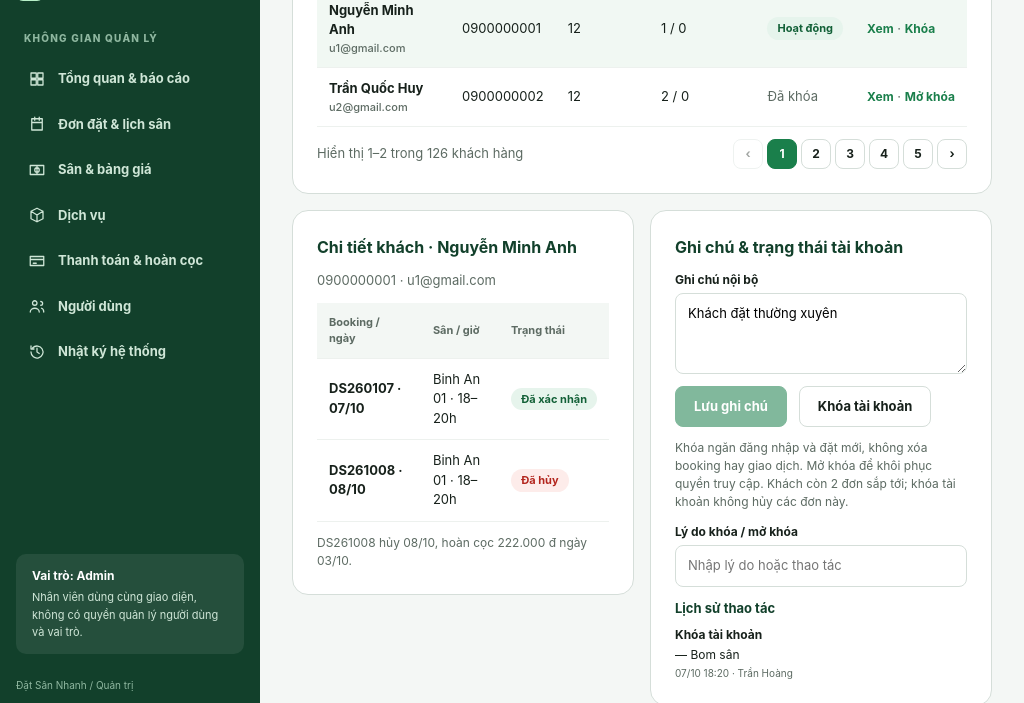
Scenario: Người dùng - tab Khách hàng › lưu ghi chú: nút chỉ bật khi nội dung thay đổi
(page scrolled)
Expected: the heading "Chi tiết khách · Nguyễn Minh Anh" is shown, [317,235,609,259]
Expected: the button "Lưu ghi chú" is disabled, [675,386,787,427]
Type " - ưu tiên sân 1" into the text box labelled "Ghi chú nội bộ" at coordinates (821, 333), box [675,293,967,374]
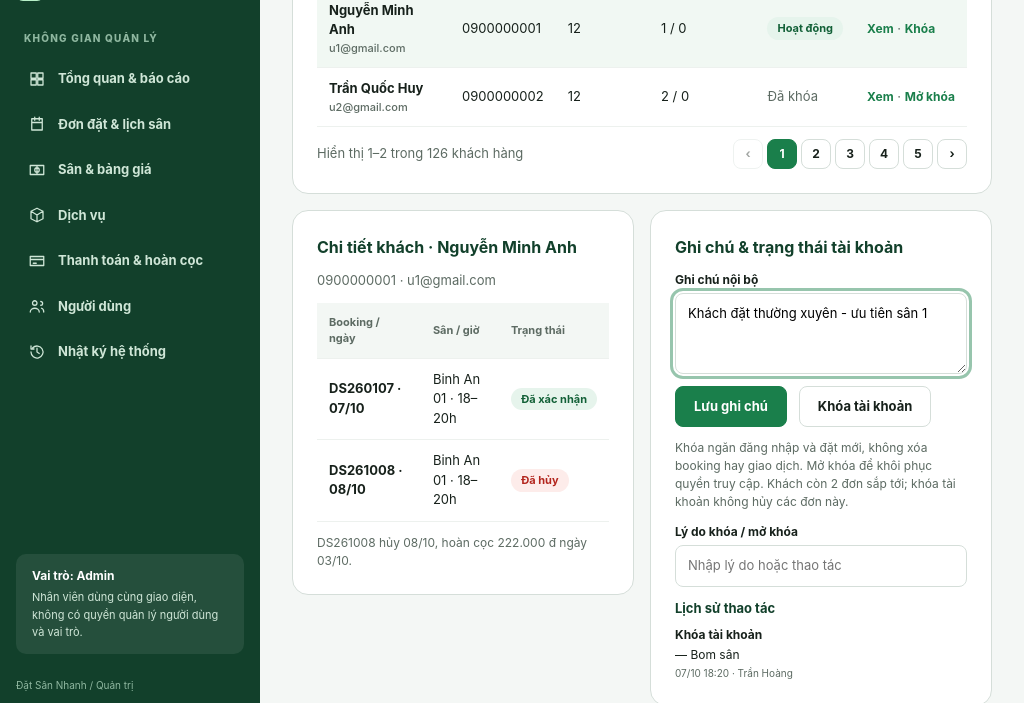
Expected: the button "Lưu ghi chú" is enabled
Click the button "Lưu ghi chú" at coordinates (731, 406), box [675,386,787,427]
(page scrolled)
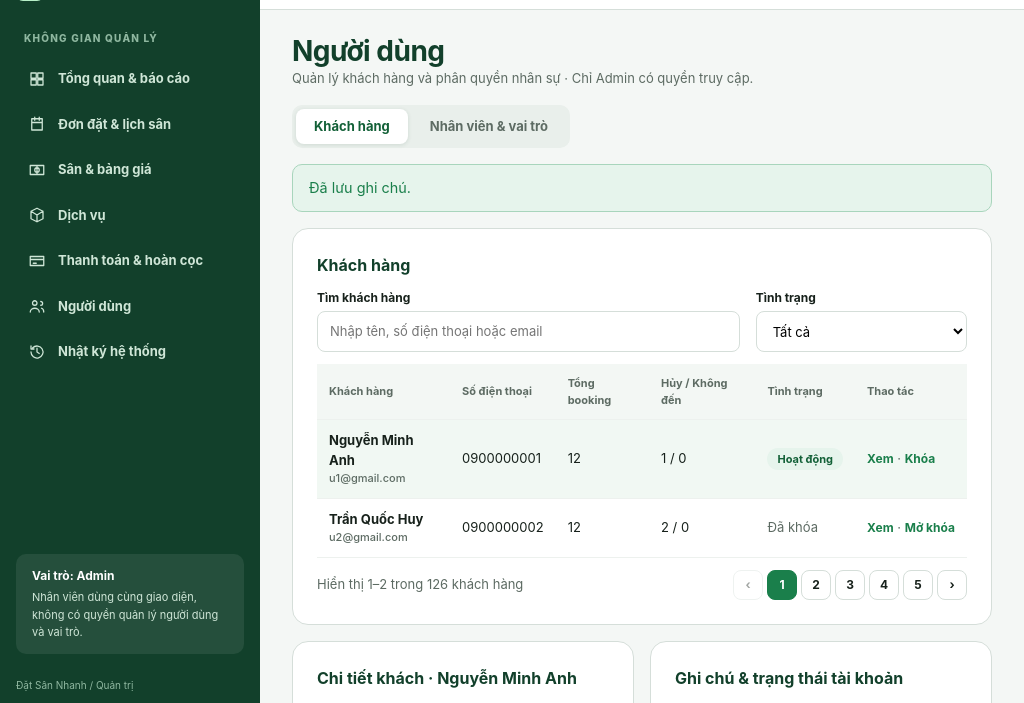
Expected: the text "Đã lưu ghi chú." is shown, [292,164,992,212]
